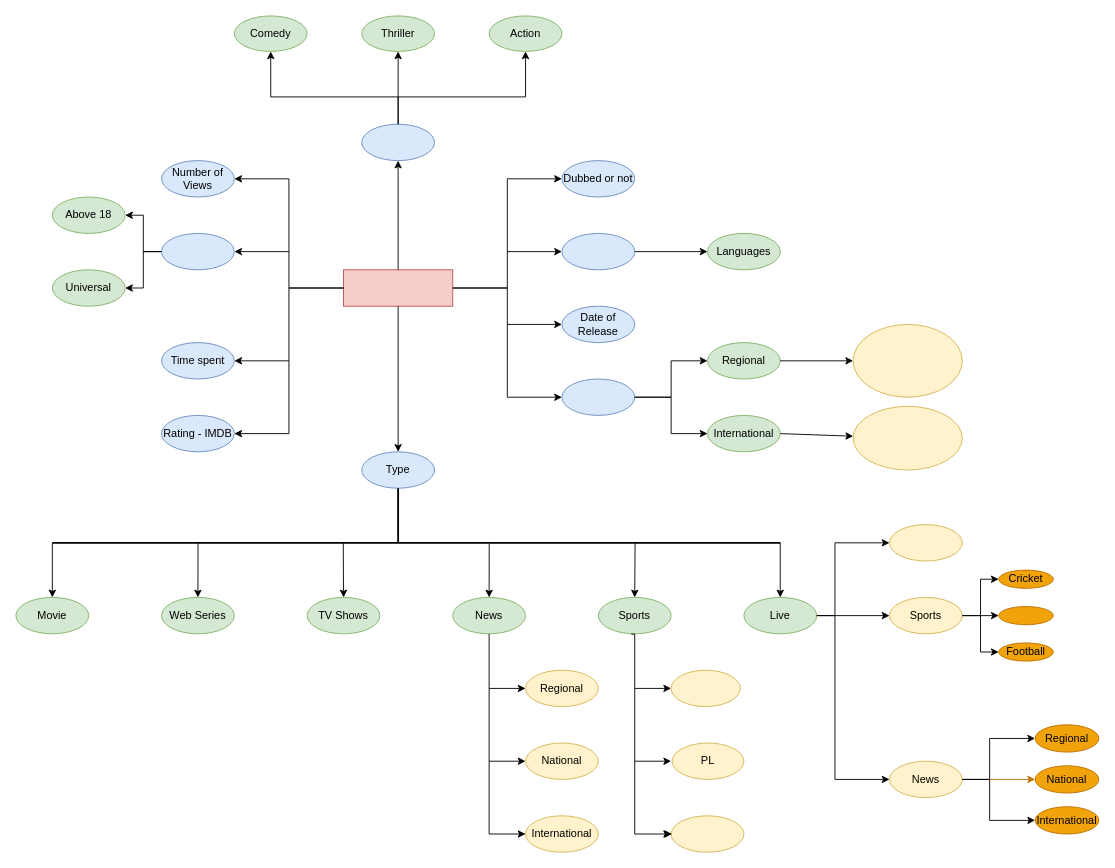
The diagram is 1115 pixels wide and 868 high, and some of its shapes have lost their labels. The box of each missing label's shape, as (x1, y1, x2, y2) in pixels:
Actor / Actress: (561, 233, 635, 270)
Age restrictions: (161, 233, 234, 270)
Channels: (889, 524, 962, 561)
English Spanish Arabic Italian: (852, 405, 962, 470)
F1: (670, 669, 740, 707)
Genre: (361, 123, 435, 161)
IPL: (670, 815, 744, 852)
Kannada Telugu Tamil Malayalam Marathi: (852, 324, 962, 397)
Language: (561, 378, 635, 415)
Tennis: (998, 606, 1053, 625)
Video: (343, 269, 453, 306)
